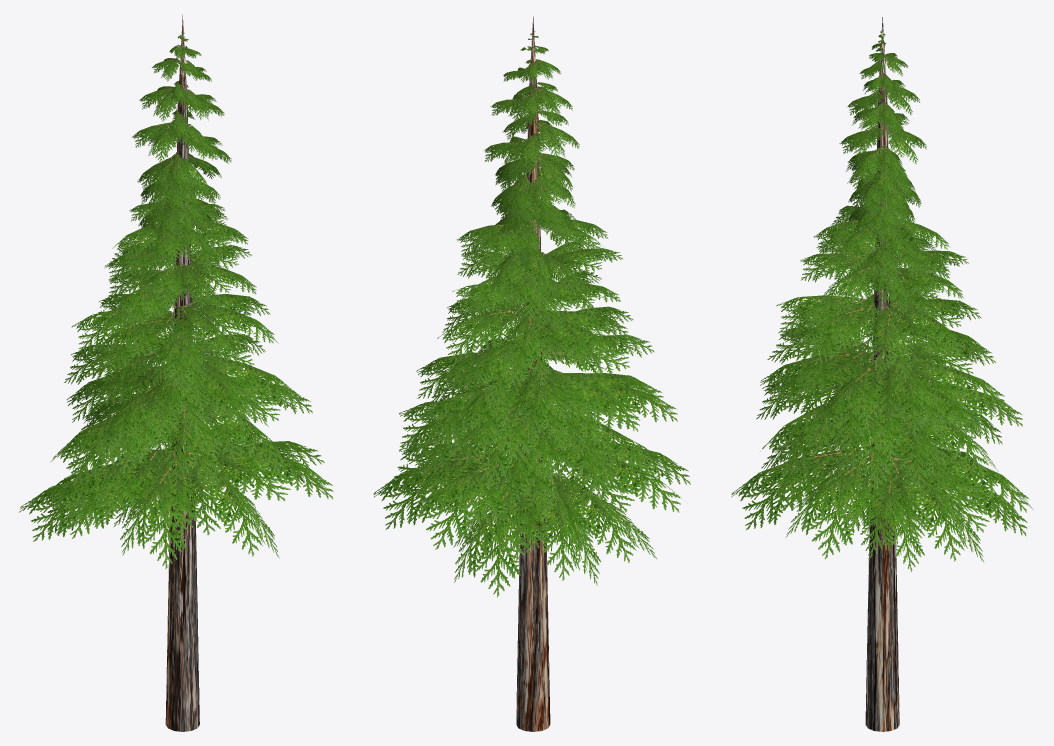
File: fur_tree.glb
3 renders of one model, left to right at view 1: azimuth 30°, elevation 25°; view 2: azimuth 150°, elevation 25°; view 3: azimuth 270°, elevation 25°, orthographic.
Parts seen in each view (by area): view 1: pPlane145; view 2: pPlane145; view 3: pPlane145.
Boxes of the visible parts, x1=… form: pPlane145: x1=19, y1=15, x2=333, y2=731; pPlane145: x1=373, y1=16, x2=690, y2=731; pPlane145: x1=731, y1=17, x2=1032, y2=731.
Bounding box in the file's own units: 4.03 × 9.5 × 3.8.
Materials: 2 (2 with a texture image).
